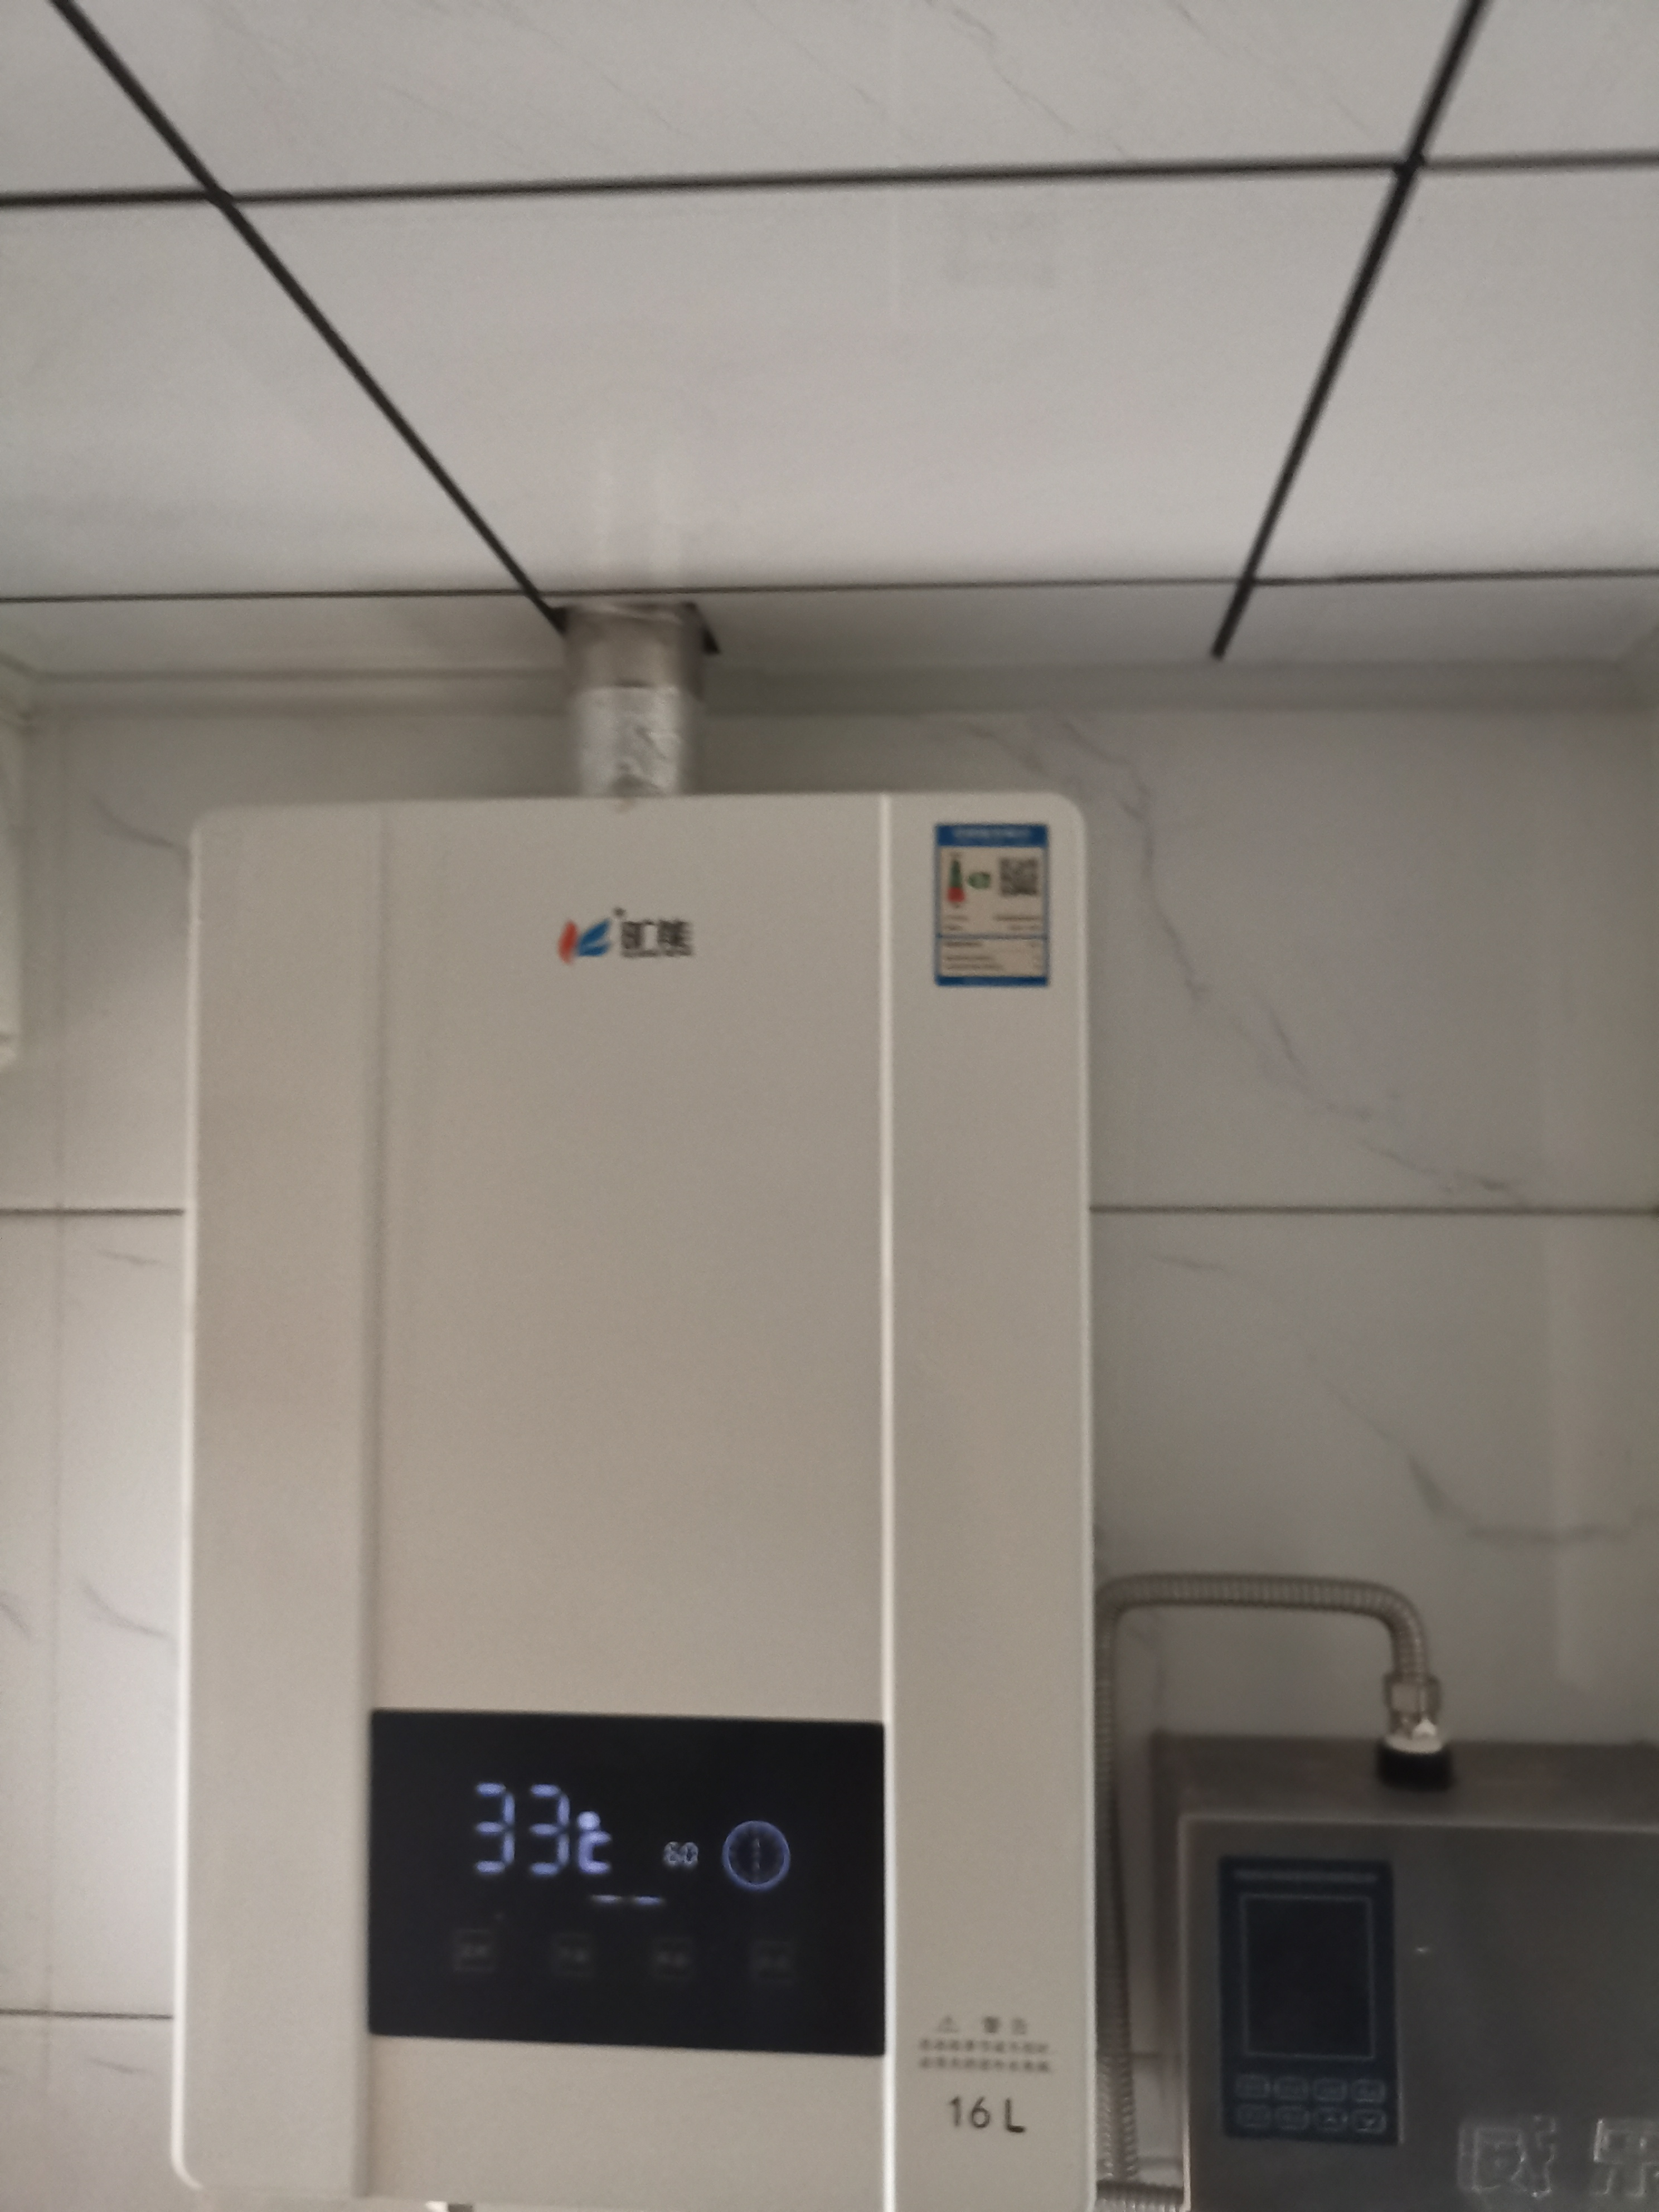loudou: (532, 897, 721, 975)
